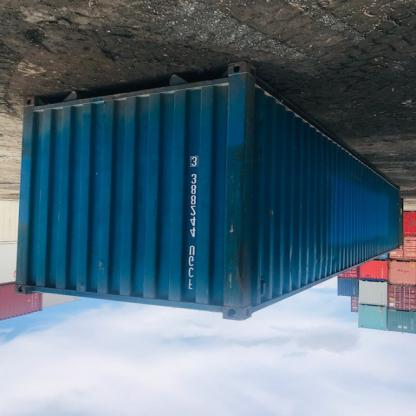Damage: (219, 143, 255, 314), (301, 253, 346, 277), (276, 248, 300, 292), (87, 257, 115, 275)
